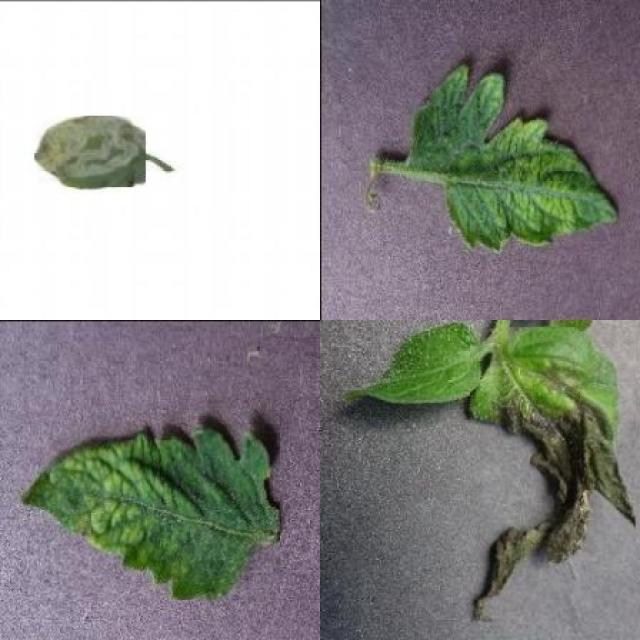Late Blight: (470, 327, 636, 624)
Leaf Miner: (34, 116, 146, 188)
Mosaic Virus: (23, 424, 280, 602), (406, 60, 620, 254)
